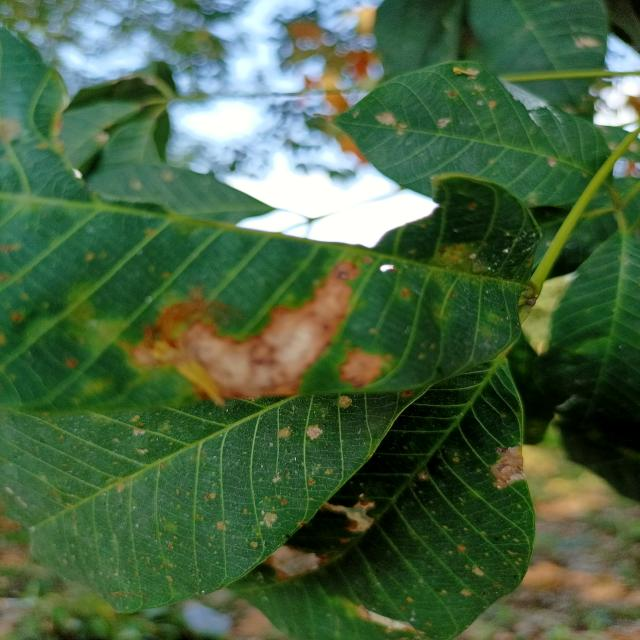Leaf-Blight: (124, 260, 360, 404), (266, 543, 322, 579), (336, 348, 384, 389), (320, 500, 376, 532), (491, 443, 527, 489), (358, 605, 414, 631)
